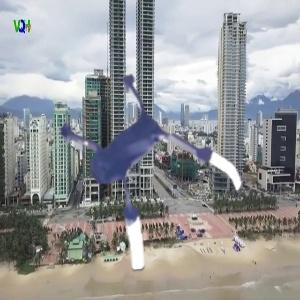drone: (26, 59, 248, 281)
